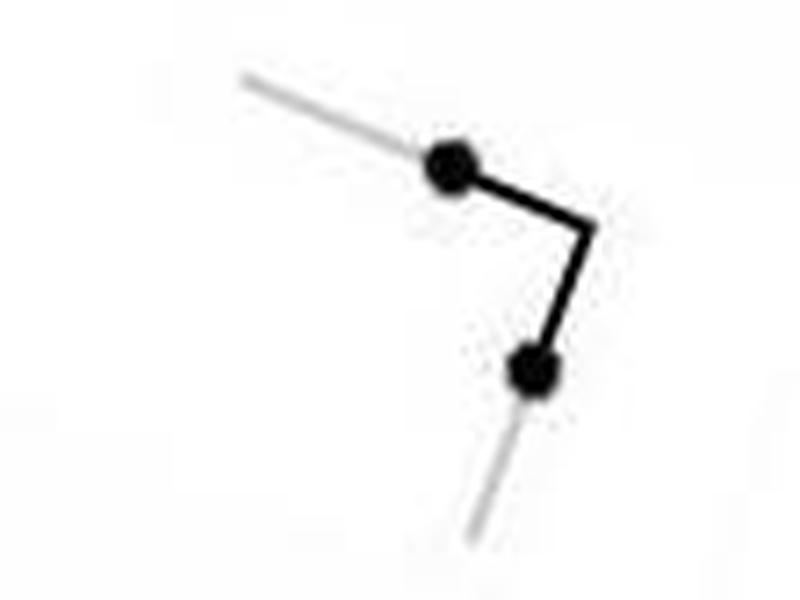butt_weld_90: (244, 69, 628, 553)
